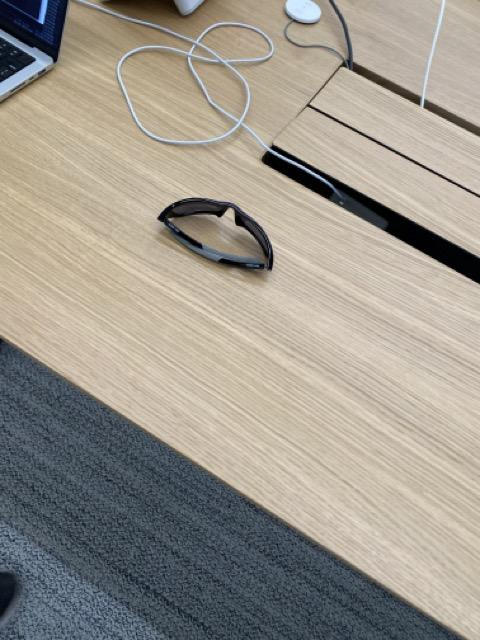Sunglasses: (159, 197, 275, 277)
